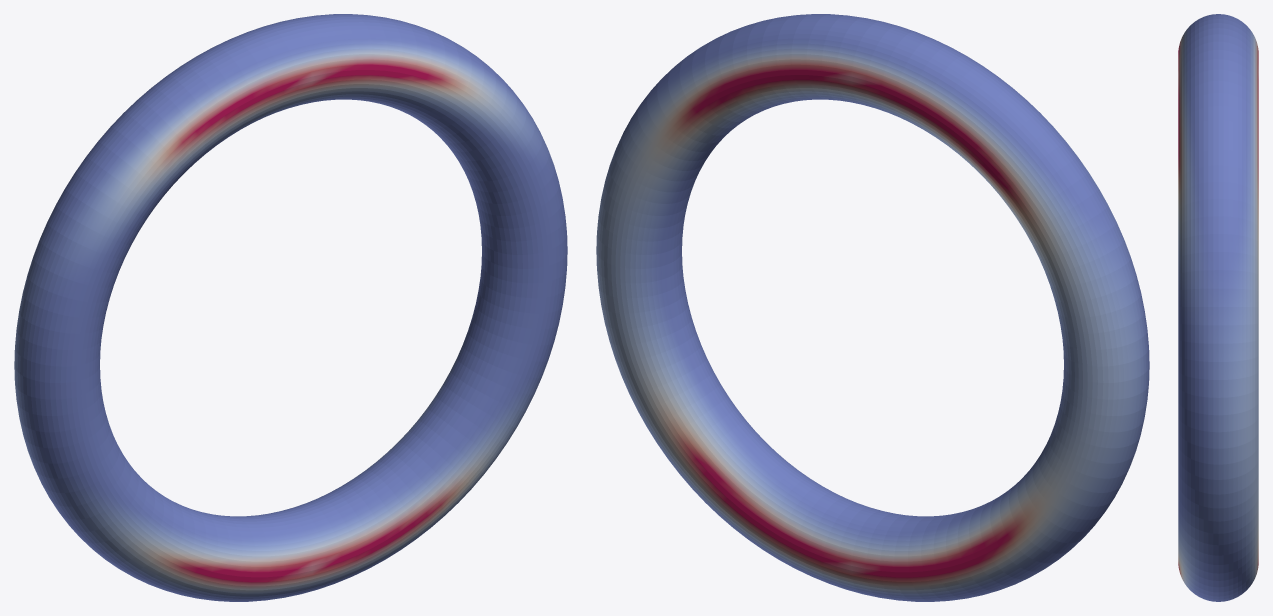
3 renders of one model, left to right at view 1: azimuth 30°, elevation 25°; view 2: azimuth 150°, elevation 25°; view 3: azimuth 270°, elevation 25°, orthographic. The views are drawn at different scales.
Visible parts, largest first — view 1: world; view 2: world; view 3: world.
Boxes of the visible parts, x1,y1,x2,y2 form: world: [14, 14, 567, 601]; world: [596, 14, 1149, 601]; world: [1178, 14, 1258, 601].
Size of the model in its own units: 22.4 by 22.4 by 3.06.
